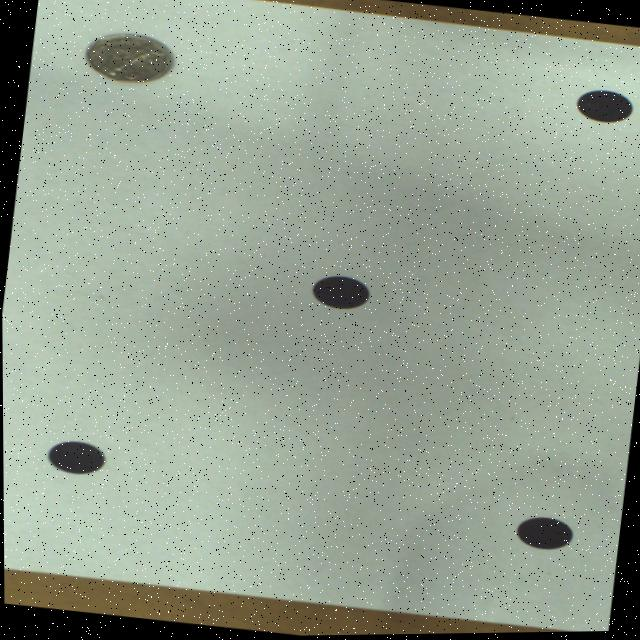space: (46, 441, 104, 474), (310, 277, 368, 310), (574, 92, 631, 124), (516, 518, 571, 551)
tail5bath: (86, 34, 171, 83)
